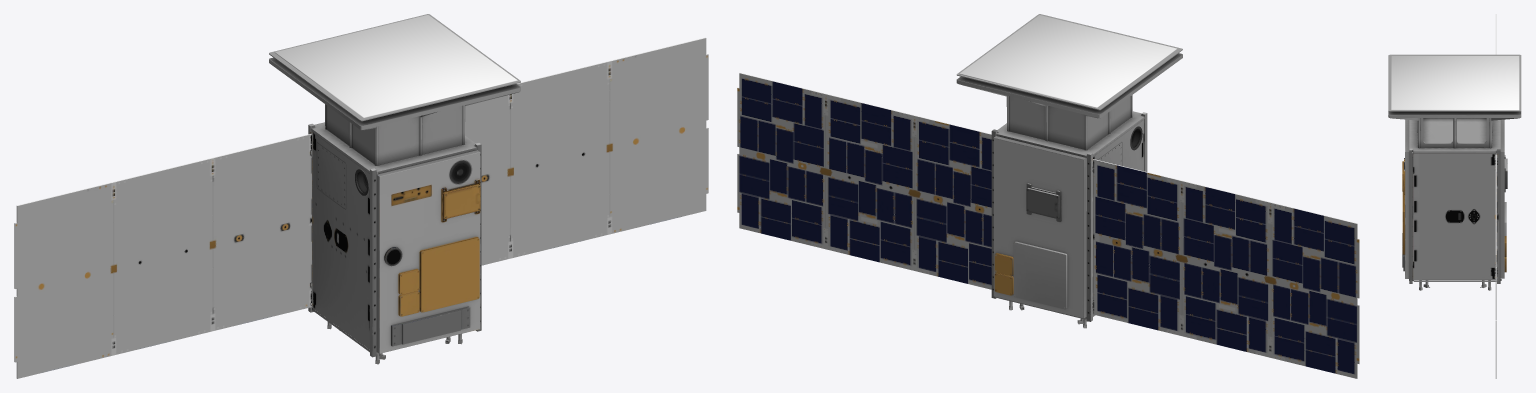
File: capstone.gltf
3 views of the same model, side by side, from view 1: azimuth 30°, elevation 25°; view 2: azimuth 150°, elevation 25°; view 3: azimuth 270°, elevation 25° (orthographic). The views are drawn at different scales.
Parts seen in each view (by area): view 1: array, bus, foil, ao; view 2: array, bus, foil, ao; view 3: bus, foil, ao, array, thrusters.
Boxes of the visible parts, x1,y1,x2,y2 form: array: (14, 37, 708, 378); bus: (308, 122, 481, 357); foil: (274, 15, 517, 117); ao: (269, 14, 520, 354); array: (737, 73, 1359, 378); bus: (991, 111, 1147, 321); foil: (959, 15, 1176, 107); ao: (956, 14, 1182, 319); bus: (1402, 119, 1507, 283); foil: (1391, 56, 1519, 110); ao: (1388, 54, 1521, 281); array: (1495, 14, 1496, 378); thrusters: (1419, 280, 1491, 290).
Bounding box in the file's own units: 1.43 × 0.5294 × 0.3305.
5 materials, 3 textured.
